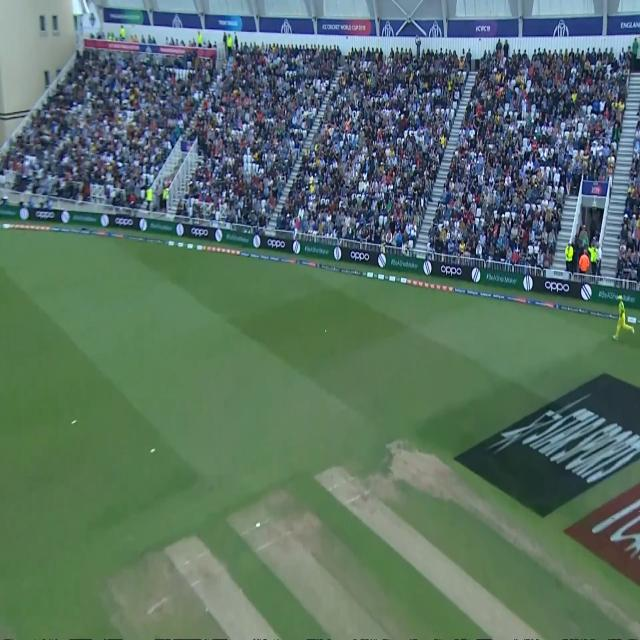ball: (321, 322, 330, 342)
